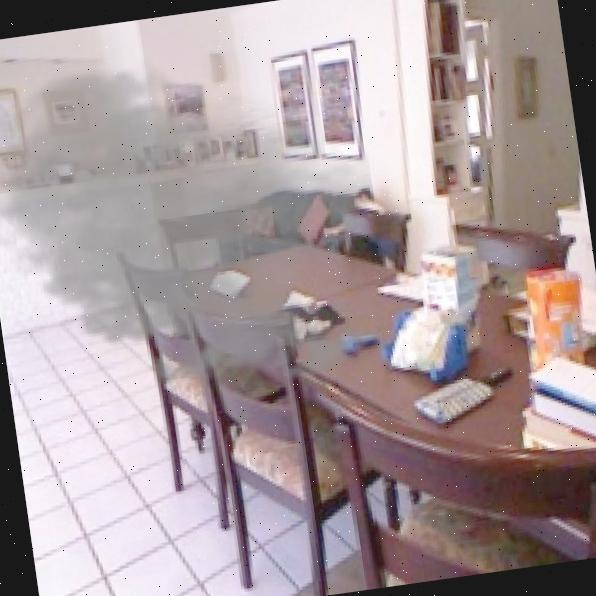smoke: (0, 25, 399, 431)
